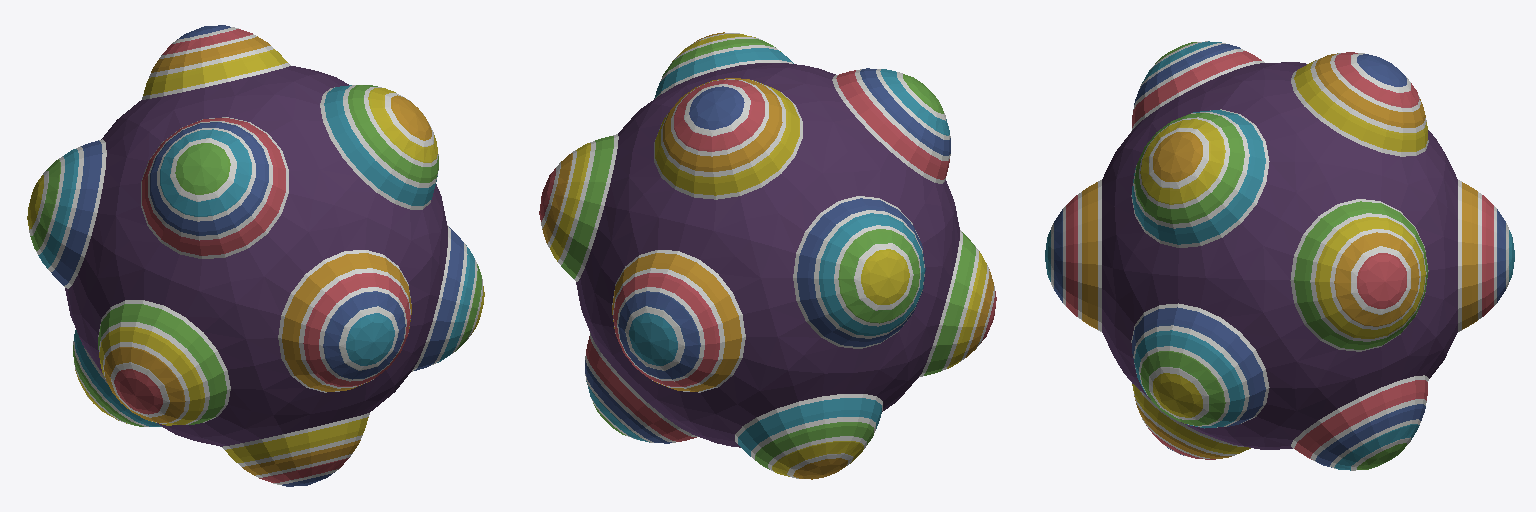
3 views of the same model, side by side, from view 1: azimuth 30°, elevation 25°; view 2: azimuth 150°, elevation 25°; view 3: azimuth 270°, elevation 25° (orthographic).
Parts seen in each view (by area): view 1: core_10_0; view 2: core_10_0; view 3: core_10_0.
Part boxes in pixels (left/top/right/bottom): core_10_0: left=27, top=25, right=484, bottom=486; core_10_0: left=539, top=32, right=996, bottom=479; core_10_0: left=1045, top=41, right=1514, bottom=470.
Bounding box in the file's own units: 0.0478 × 0.0494 × 0.0537.
Materials: 1 (1 with a texture image).